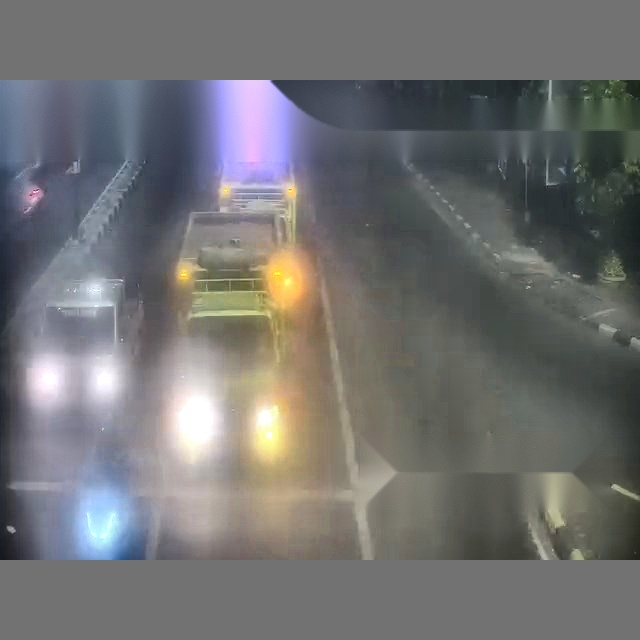Truk: (173, 208, 293, 328)
